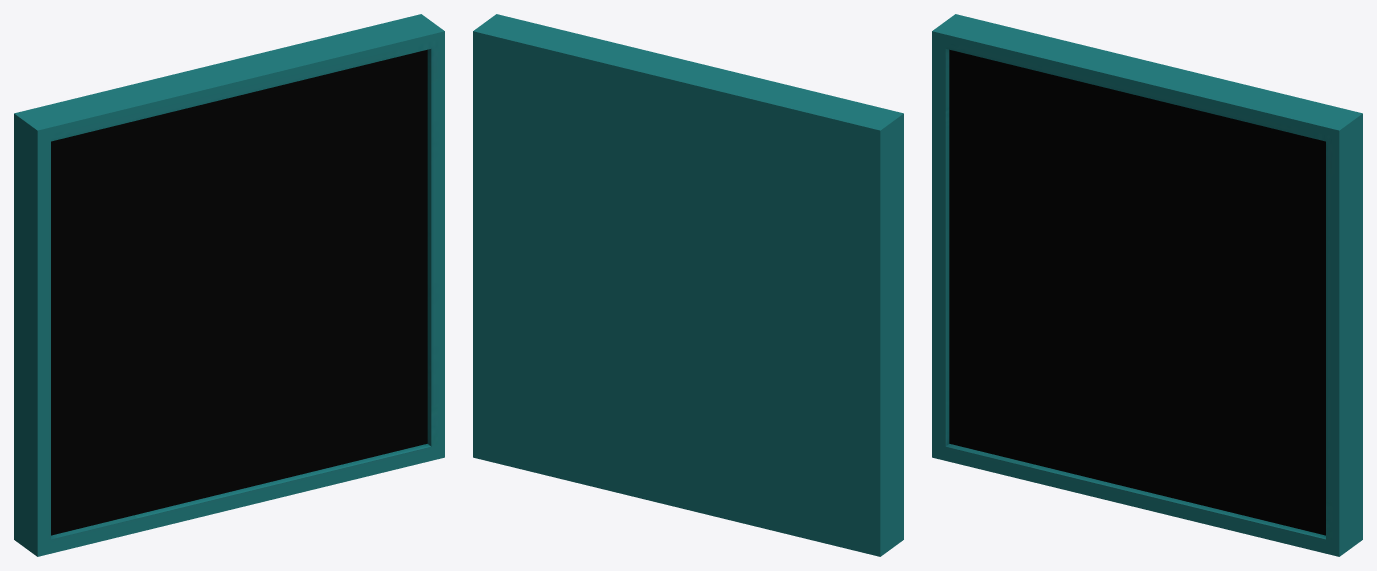
File: scenery.fbx
3 renders of one model, left to right at view 1: azimuth 30°, elevation 25°; view 2: azimuth 150°, elevation 25°; view 3: azimuth 330°, elevation 25°, orthographic.
Parts seen in each view (by area): view 1: Clock; view 2: Clock; view 3: Clock.
Part boxes in pixels (x1=…): Clock: x1=14, y1=14, x2=444, y2=556; Clock: x1=473, y1=14, x2=903, y2=556; Clock: x1=932, y1=14, x2=1362, y2=556.
Size of the model in its own units: 15 by 1.5 by 15.
Materials: 2 (2 with a texture image).
